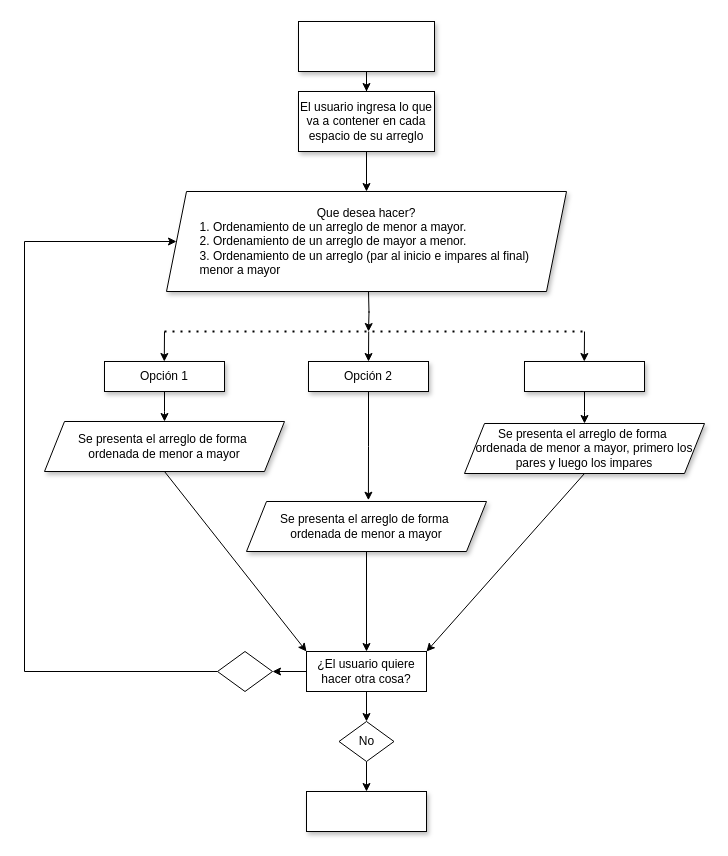
Some shapes in this 728 by 856 pixel diagram are drawn without their labels. Here are the shapes that lost their labels. From the top down, the centre of each, then its label:
At (367,47): "El usuario ingresa el tamaño de su arreglo".
At (585,377): "Opción 3".
At (244,671): "Si".
At (367,812): "Fin del programa".
